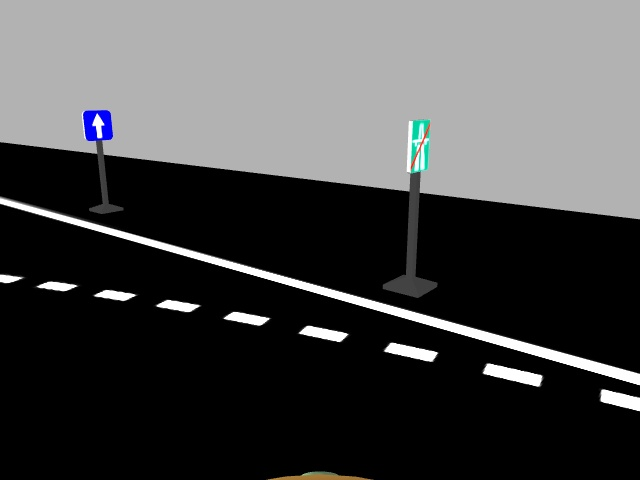HighwayExit: (404, 116, 430, 173)
OneWay: (77, 106, 115, 141)
